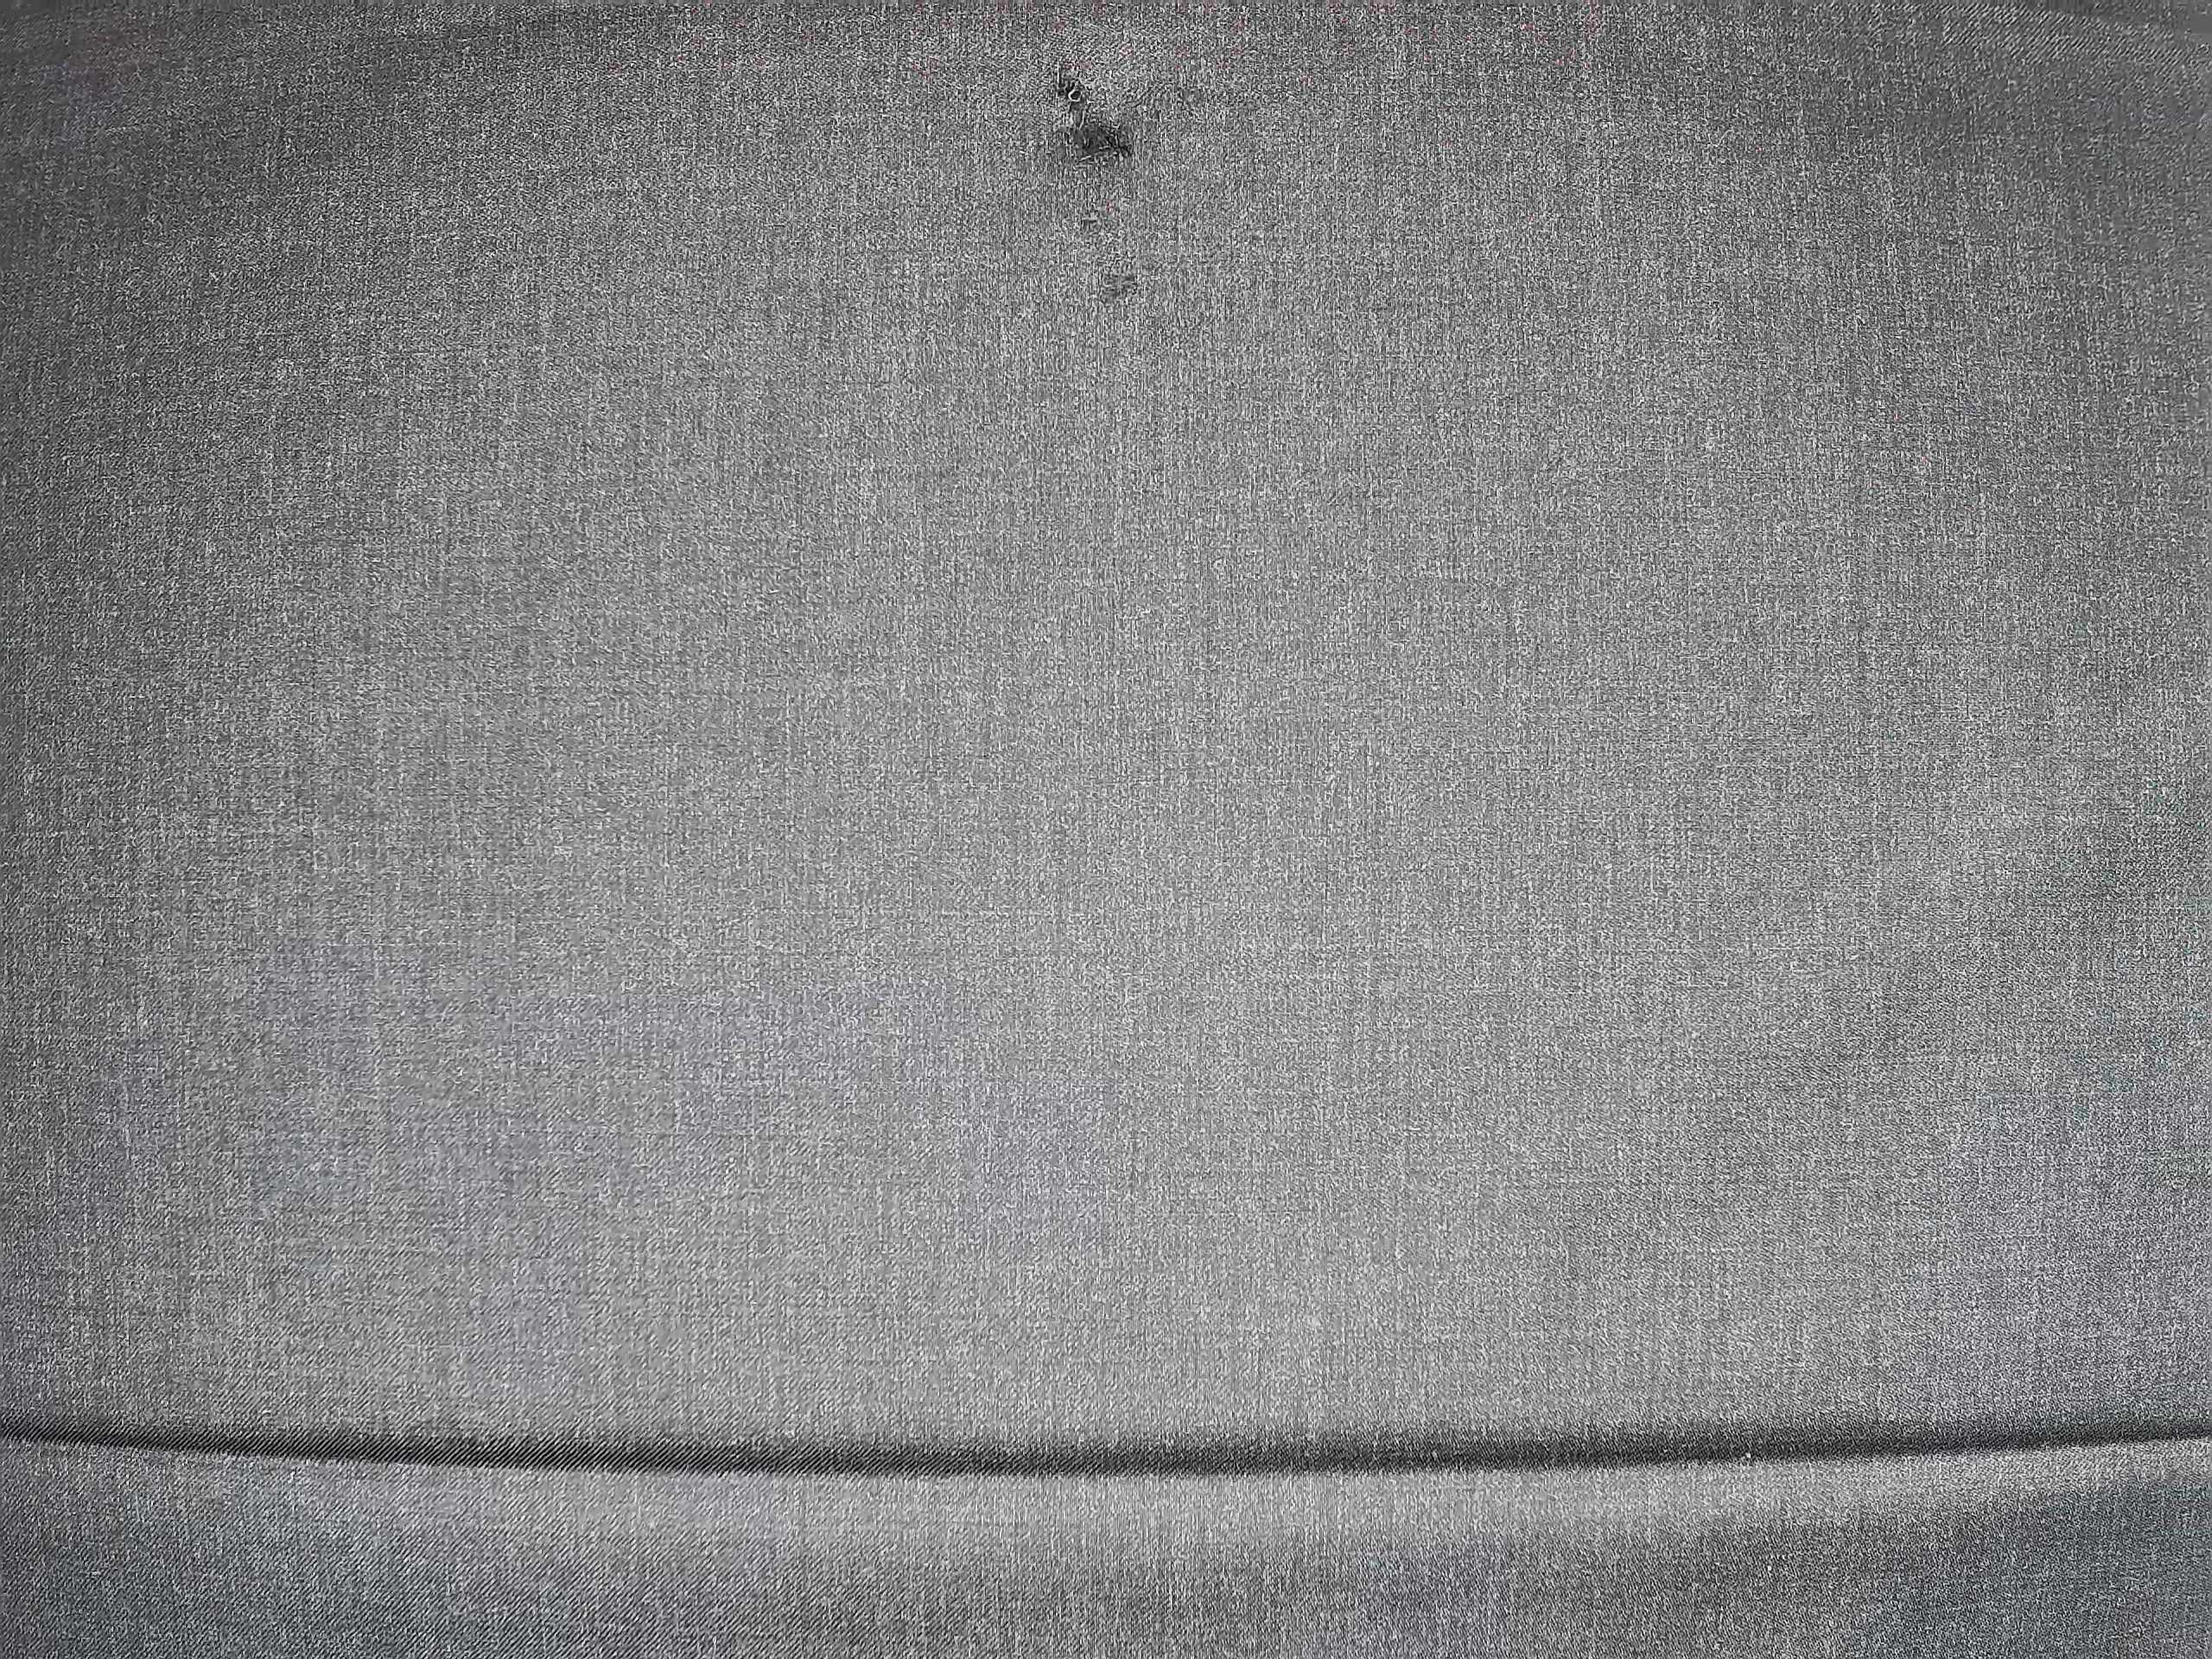rubbing-hole: (1033, 51, 1151, 174), (1083, 258, 1155, 312), (1055, 197, 1116, 246)
